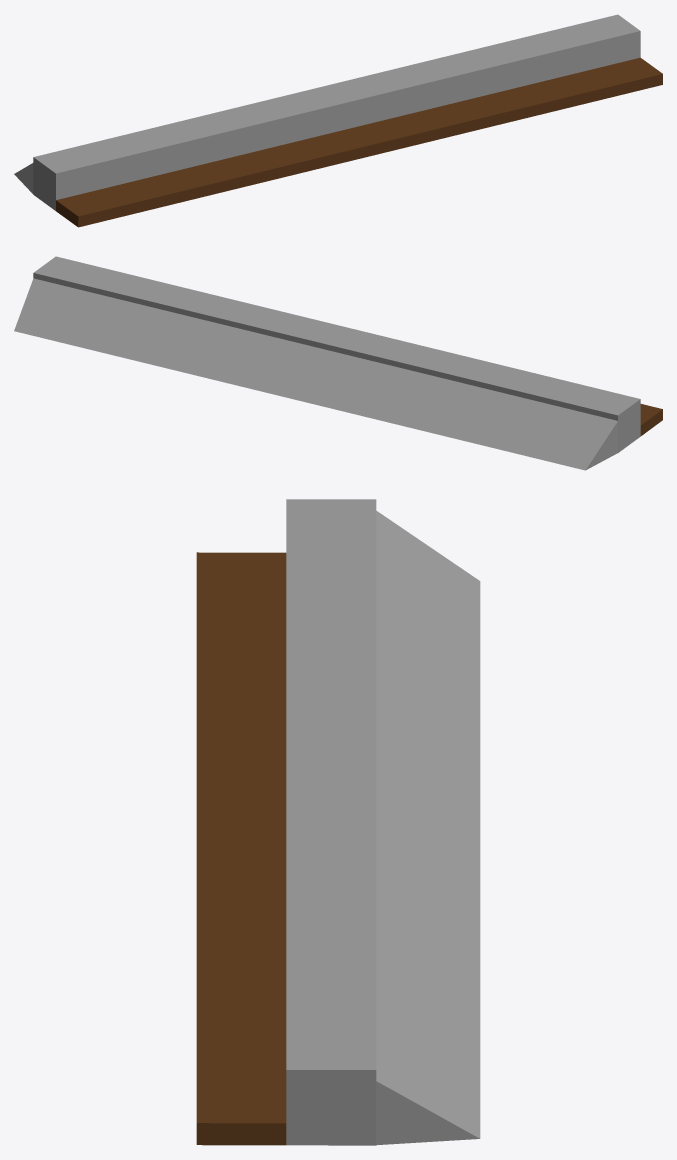
Rendered from concrete_cover.glb.
3 renders of one model, top to bottom at view 1: azimuth 30°, elevation 25°; view 2: azimuth 150°, elevation 25°; view 3: azimuth 270°, elevation 25°, orthographic. The views are drawn at different scales.
Visible parts, largest first — view 1: Concrete_cover; view 2: Concrete_cover; view 3: Concrete_cover.
Boxes of the visible parts, x1,y1,x2,y2 form: Concrete_cover: (14,14,662,227); Concrete_cover: (14,256,662,470); Concrete_cover: (196,499,480,1145).
Size of what is drawn, in the model's own units: 30 by 1.85 by 6.3.
